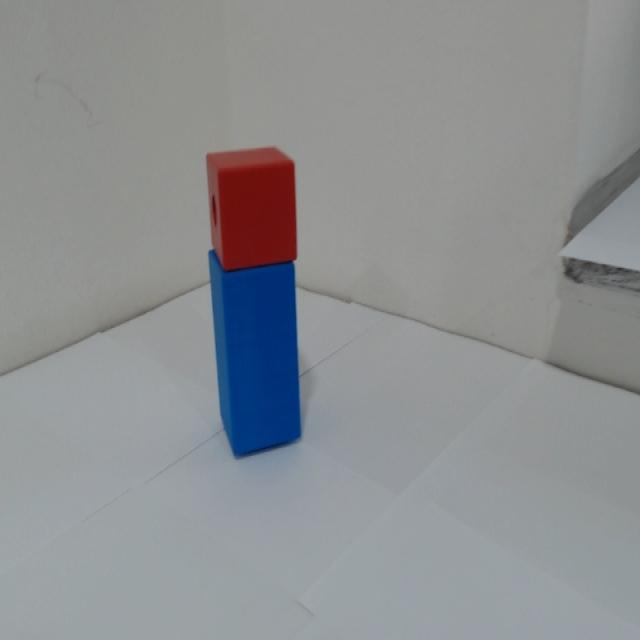cube: (197, 123, 332, 273)
